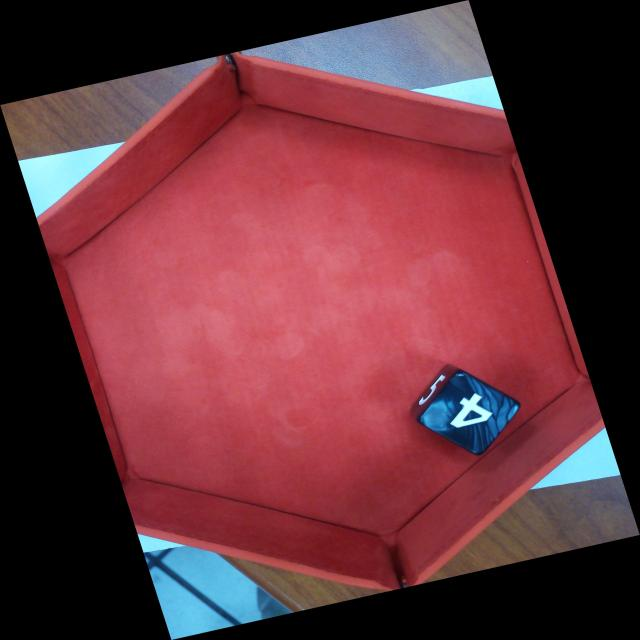dice: (412, 367, 524, 460)
